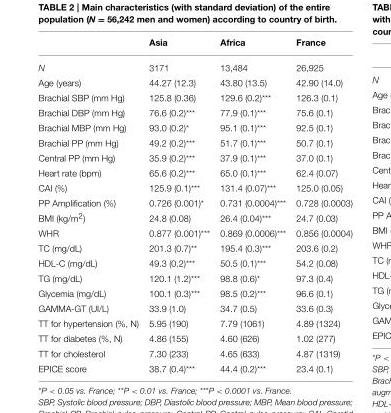table: (37, 37, 351, 373)
table column: (37, 37, 143, 373), (214, 37, 290, 373), (143, 37, 214, 373), (290, 37, 351, 373)
table column header: (37, 37, 351, 54)
table row: (37, 54, 351, 75), (37, 37, 351, 54), (37, 209, 351, 225), (37, 315, 351, 331), (37, 75, 351, 90), (37, 90, 351, 105), (37, 105, 351, 120), (37, 120, 351, 135), (37, 135, 351, 150), (37, 150, 351, 165), (37, 165, 351, 180), (37, 180, 351, 195), (37, 225, 351, 240), (37, 240, 351, 255), (37, 255, 351, 270), (37, 270, 351, 285), (37, 285, 351, 300), (37, 300, 351, 315), (37, 331, 351, 346), (37, 346, 351, 361), (37, 195, 351, 209), (37, 361, 351, 373)
